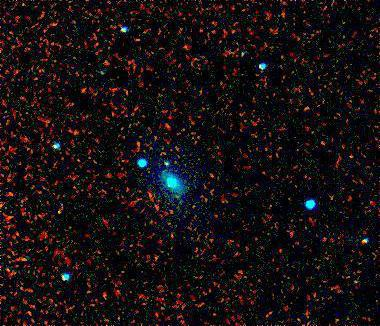star: (288, 92, 318, 122)
